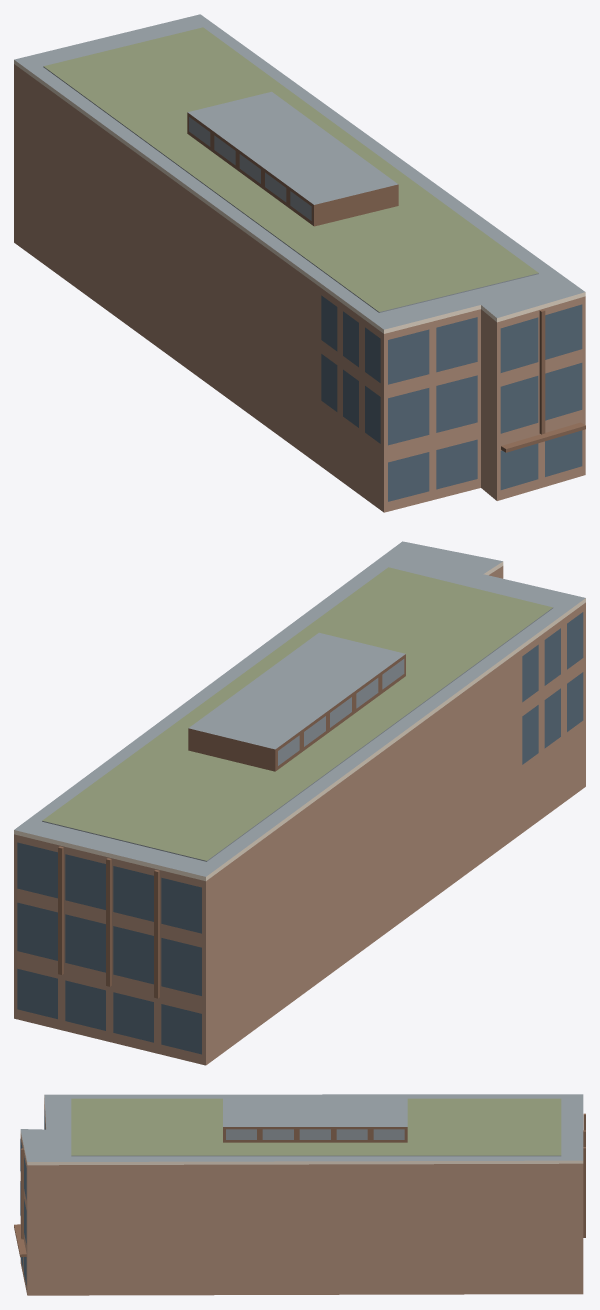
The model's file is dc-au-sports-center-annex.glb.
3 renders of one model, top to bottom at view 1: azimuth 30°, elevation 25°; view 2: azimuth 150°, elevation 25°; view 3: azimuth 270°, elevation 25°, orthographic. The views are drawn at different scales.
Visible parts, largest first — view 1: Sports Center Annex; view 2: Sports Center Annex; view 3: Sports Center Annex.
Part boxes in pixels (left/top/right/bottom): Sports Center Annex: left=14, top=14, right=585, bottom=512; Sports Center Annex: left=14, top=541, right=585, bottom=1065; Sports Center Annex: left=14, top=1094, right=585, bottom=1295.
Size of the model in its own units: 16.93 by 17.45 by 60.34.
